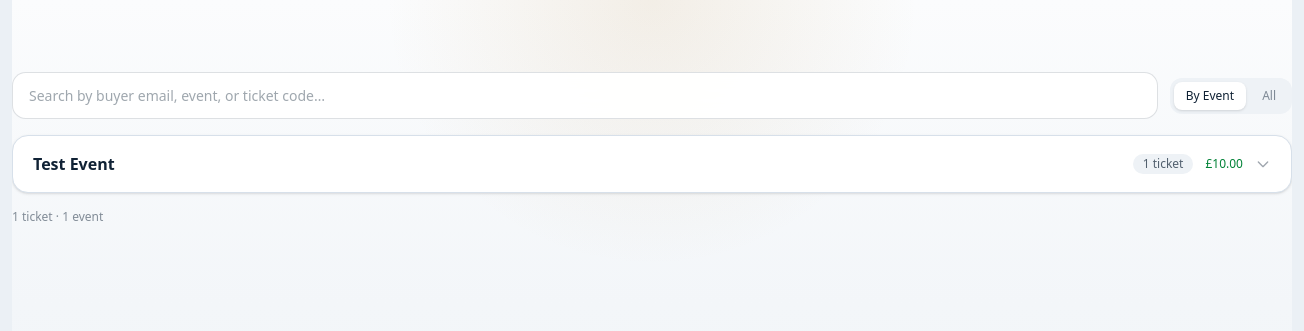
Test case: TicketsTab › expands event group on click to show tickets
Click the event group header
Click the text "Test Event".
click(74, 164)  # box [33,152,115,176]
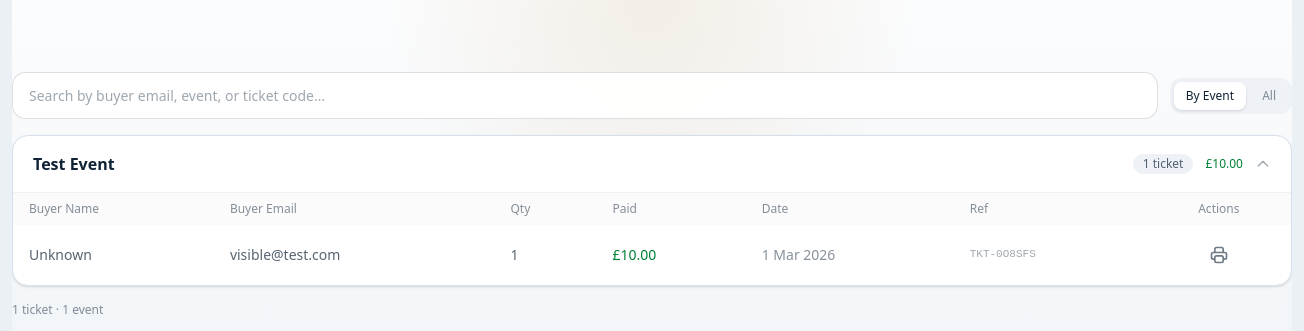
Expected: the text "visible@test.com" is shown, [214,225,494,285]
